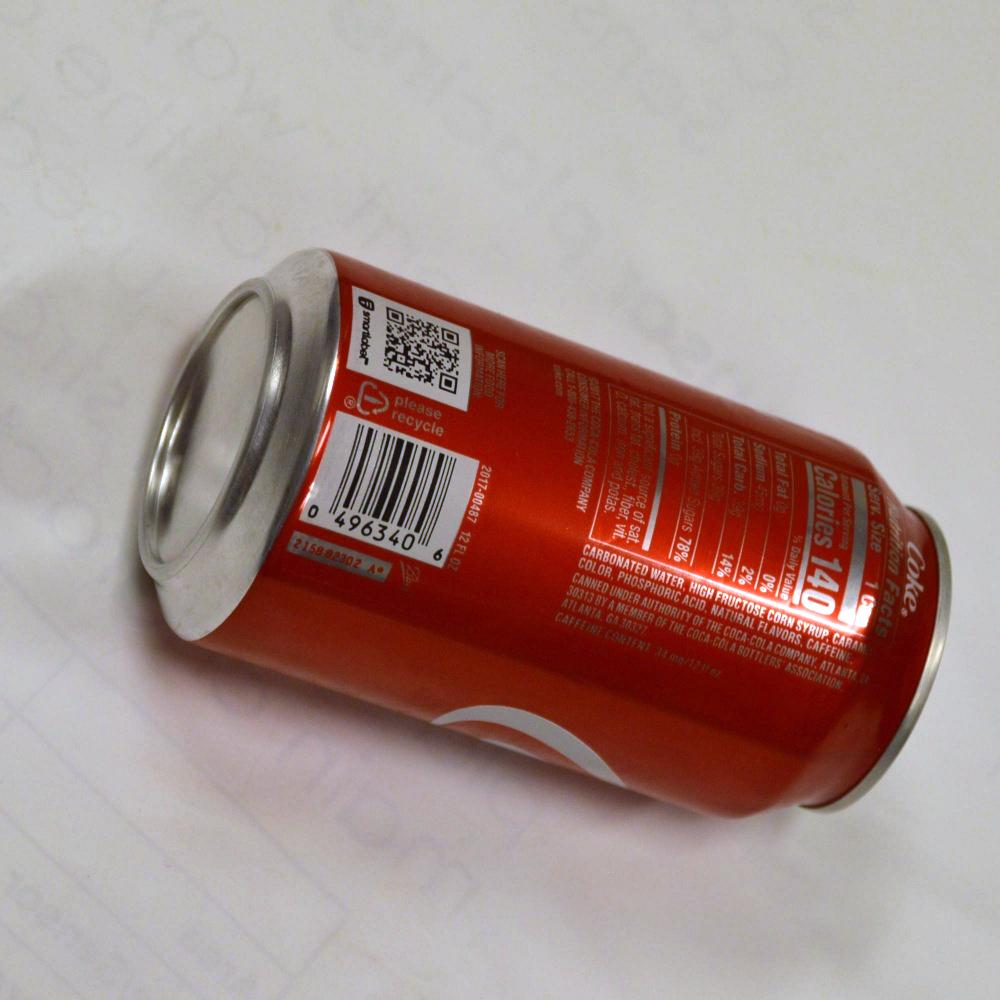Metal: (38, 172, 980, 885)
